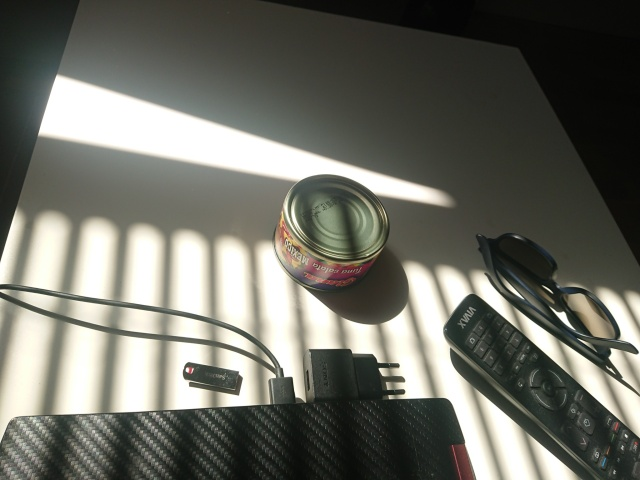Giana Tuna Salad Mexico 185g: (269, 171, 393, 294)
